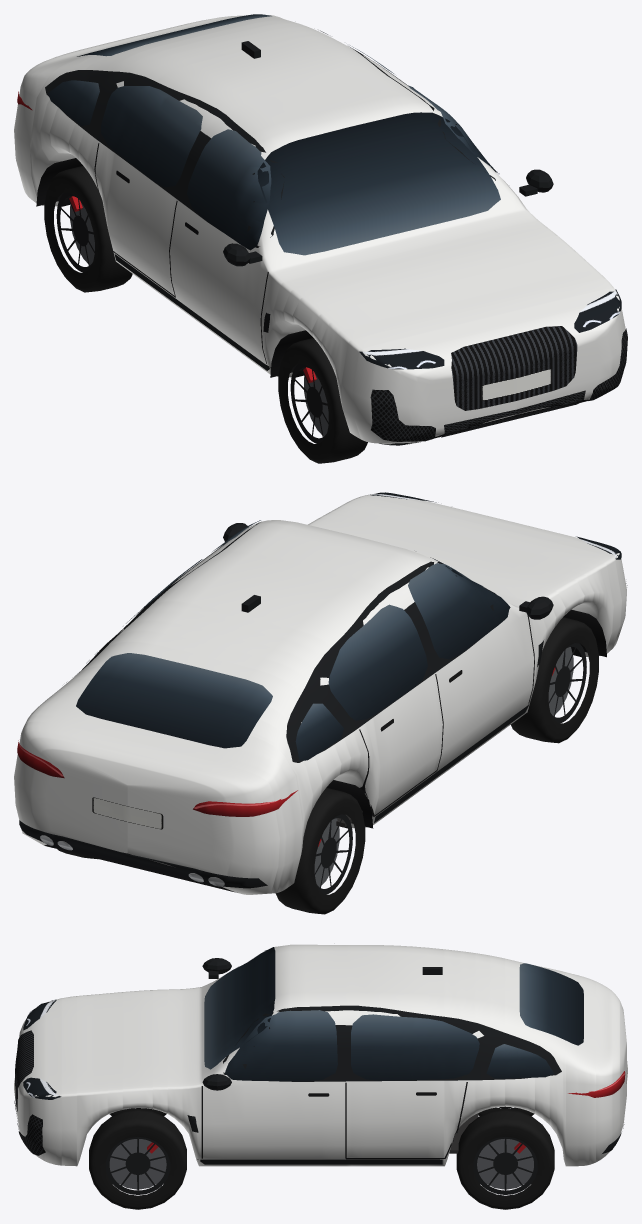
Rendered from gainde.glb.
3 renders of one model, top to bottom at view 1: azimuth 30°, elevation 25°; view 2: azimuth 150°, elevation 25°; view 3: azimuth 270°, elevation 25°, orthographic. The views are drawn at different scales.
Visible parts, largest first — view 1: body, wheel_rr, wheel_fr, door; view 2: body, wheel_rr, wheel_fr; view 3: body, door, wheel_rl, wheel_fl.
Part boxes in pixels (x1,y1,x2,y2): body: (14,14,627,445); wheel_rr: (44,166,132,292); wheel_fr: (278,338,367,463); door: (388,76,525,212); body: (14,492,627,894); wheel_rr: (275,787,365,914); wheel_fr: (511,617,598,743); body: (14,944,627,1166); door: (202,1005,346,1146); wheel_rl: (456,1109,554,1209); wheel_fl: (89,1109,186,1209).
Bounding box in the file's own units: 2.37 × 1.72 × 4.96.
Materials: 2 (1 with a texture image).
